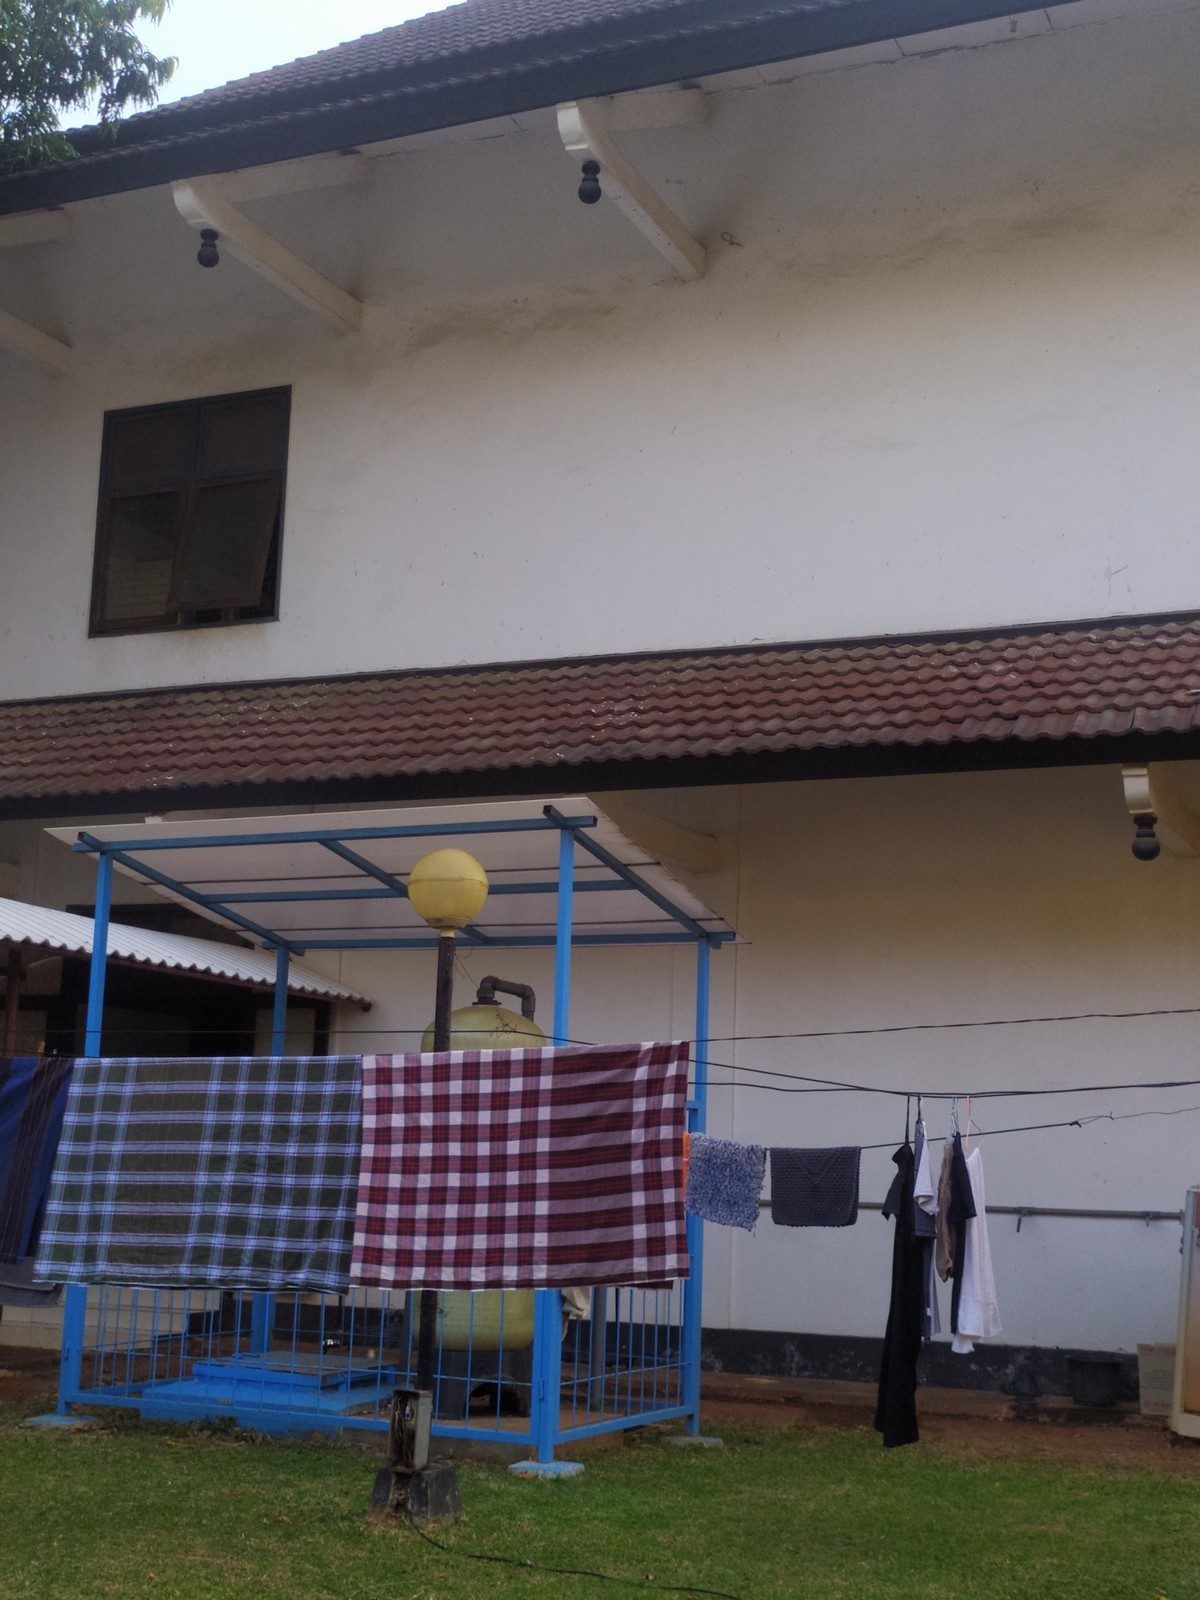concrete beam: (241, 232, 379, 341), (610, 170, 711, 282)
